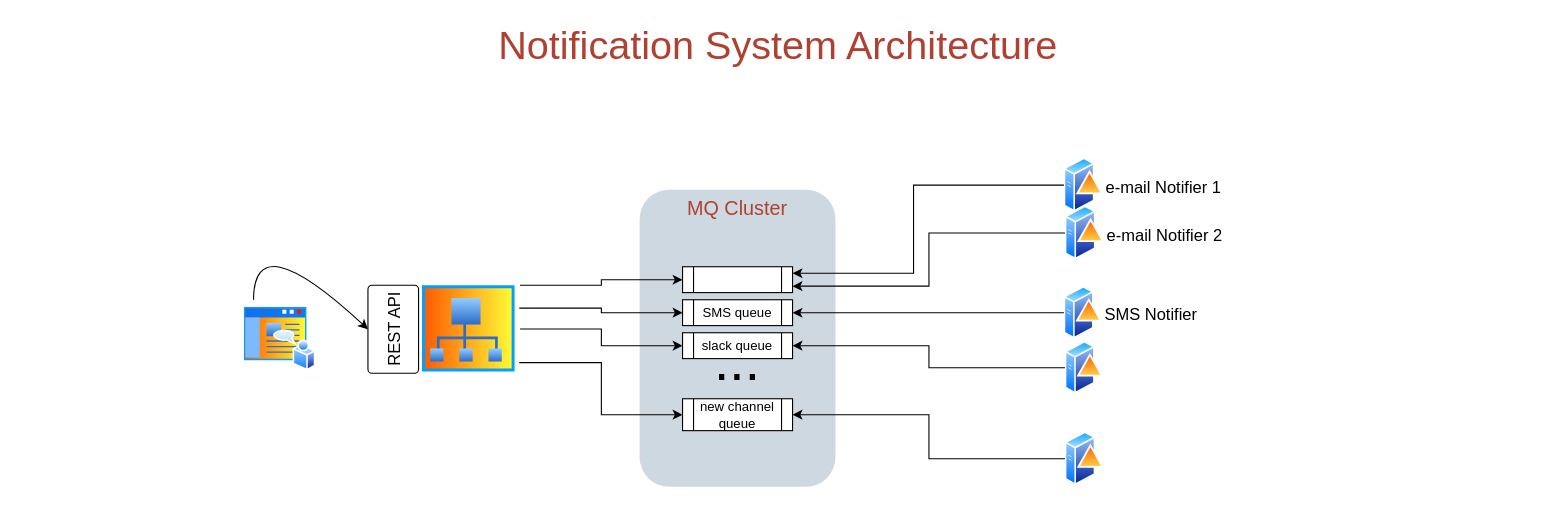
Image size: 1555x505. Some labels were removed from this diagram. Each missing label, with the box of its shape:
e-mail queue: (681, 266, 793, 293)
New channel notifier: (1065, 430, 1104, 486)
NotificationService: (418, 281, 520, 376)
Slack Notifier: (1065, 340, 1103, 395)
